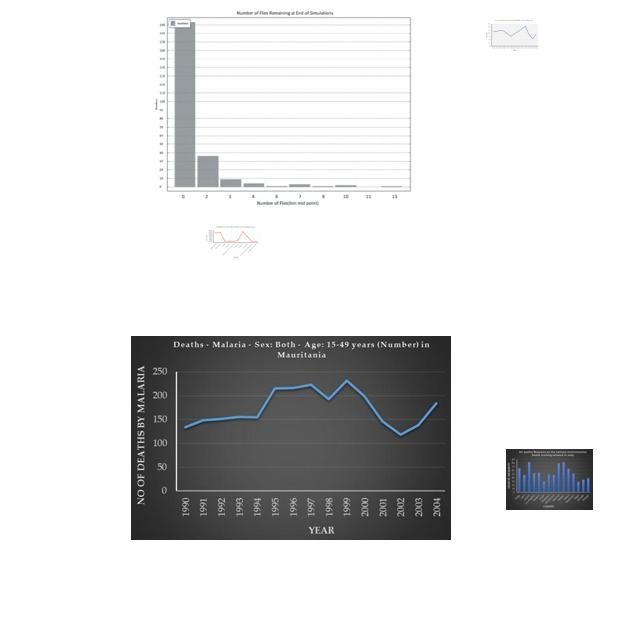Graph: (131, 336, 451, 540), (149, 9, 418, 209), (506, 449, 593, 510), (205, 224, 260, 260), (485, 19, 539, 52)
